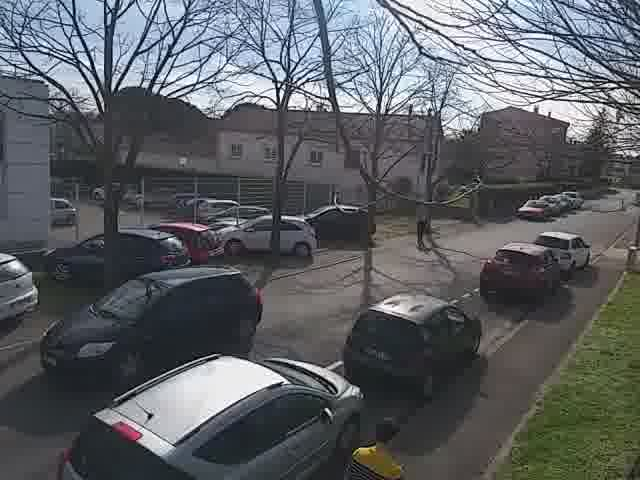persona: (412, 198, 432, 249)
